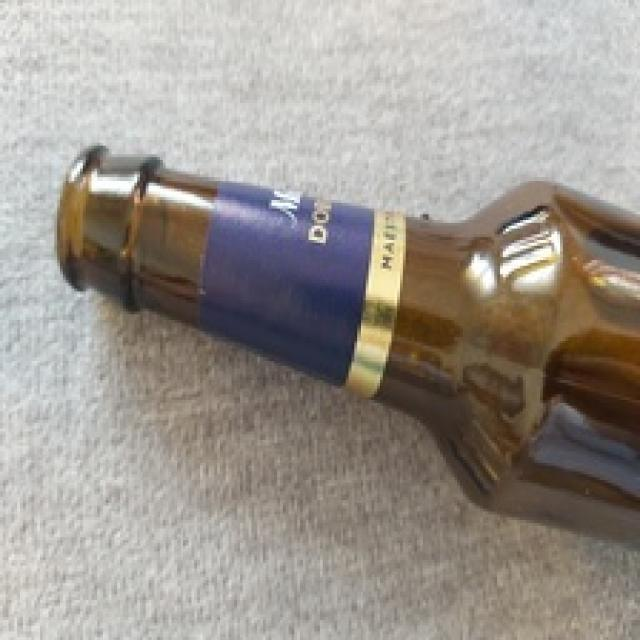Glass: (55, 145, 640, 554)
